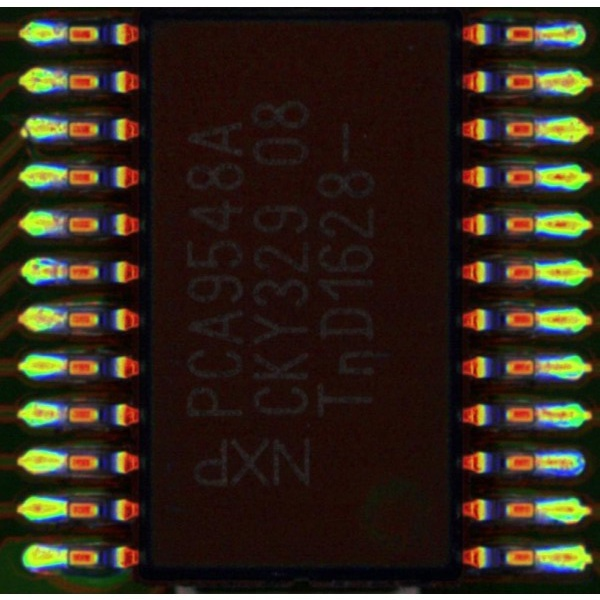Bad_podu: (524, 406, 555, 420), (524, 359, 555, 372), (521, 74, 553, 86), (522, 456, 552, 468), (523, 27, 553, 39)
